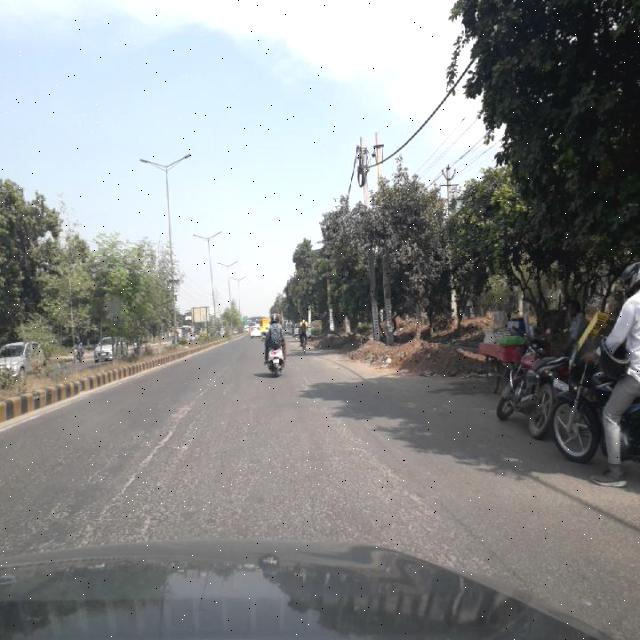D00: (85, 450, 154, 530), (155, 370, 223, 450)
